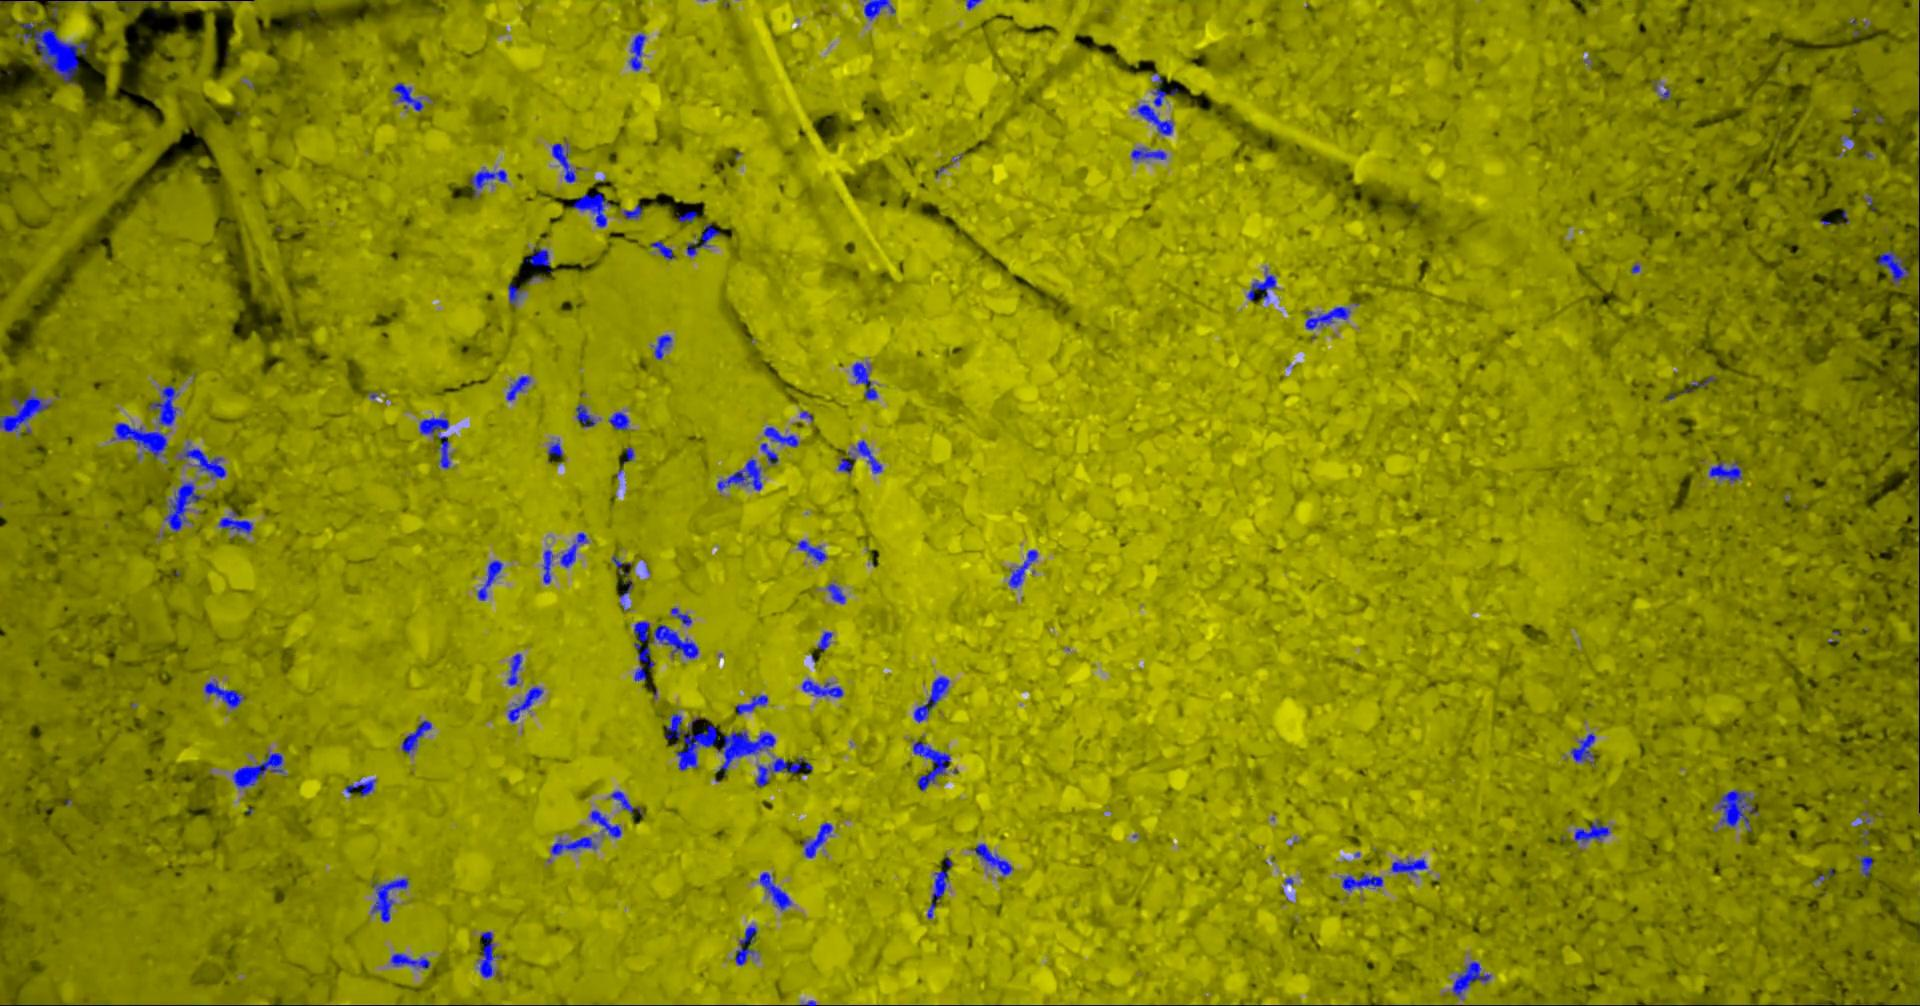ant: (1137, 72, 1177, 135), (110, 422, 168, 459), (164, 481, 202, 531), (0, 394, 51, 431), (912, 741, 949, 790), (232, 752, 283, 788), (1716, 789, 1757, 831), (370, 876, 408, 922), (179, 441, 225, 478), (913, 674, 949, 721), (756, 757, 811, 786), (418, 417, 450, 467), (926, 859, 951, 918), (716, 459, 761, 492), (1451, 962, 1491, 997), (571, 192, 610, 227), (971, 843, 1012, 876), (507, 686, 542, 721), (150, 384, 178, 426), (759, 873, 791, 909), (1008, 549, 1037, 587), (686, 224, 719, 257), (1877, 249, 1909, 283), (204, 681, 244, 708), (803, 822, 832, 857), (469, 169, 505, 197), (1304, 306, 1349, 329), (1246, 267, 1276, 300), (401, 720, 430, 754), (476, 560, 502, 600), (851, 362, 877, 399), (559, 532, 587, 567), (477, 931, 498, 977), (853, 439, 881, 473), (551, 144, 575, 182), (589, 809, 621, 837), (734, 925, 756, 965), (392, 83, 423, 111), (610, 790, 643, 815), (1575, 819, 1610, 842), (551, 836, 597, 854), (217, 511, 251, 533), (801, 678, 842, 697), (1570, 732, 1594, 763), (1340, 873, 1382, 890), (763, 426, 797, 447), (1708, 460, 1741, 481), (1390, 857, 1427, 875), (735, 694, 767, 714), (1679, 375, 1714, 392), (505, 375, 530, 400), (524, 248, 551, 271), (629, 33, 645, 70), (863, 0, 895, 19), (797, 540, 825, 561), (390, 953, 429, 968), (344, 779, 375, 796), (575, 403, 596, 427), (651, 334, 670, 359), (505, 653, 521, 685), (651, 240, 676, 259), (1130, 147, 1166, 160), (825, 583, 844, 603), (759, 442, 777, 464), (618, 572, 632, 598), (608, 412, 629, 429), (670, 607, 691, 625), (542, 549, 552, 583), (507, 285, 524, 304), (611, 555, 631, 572), (837, 455, 855, 473), (1858, 855, 1872, 876), (623, 205, 643, 218), (817, 631, 830, 650), (547, 439, 563, 456), (677, 210, 696, 222)
